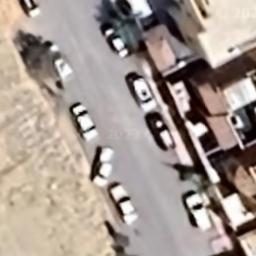SUV: (185, 192, 211, 232), (130, 76, 158, 112)
pickup: (74, 103, 98, 140), (23, 0, 44, 20)
sedan: (110, 185, 138, 224), (149, 114, 176, 151), (95, 144, 117, 186), (106, 27, 130, 59)
